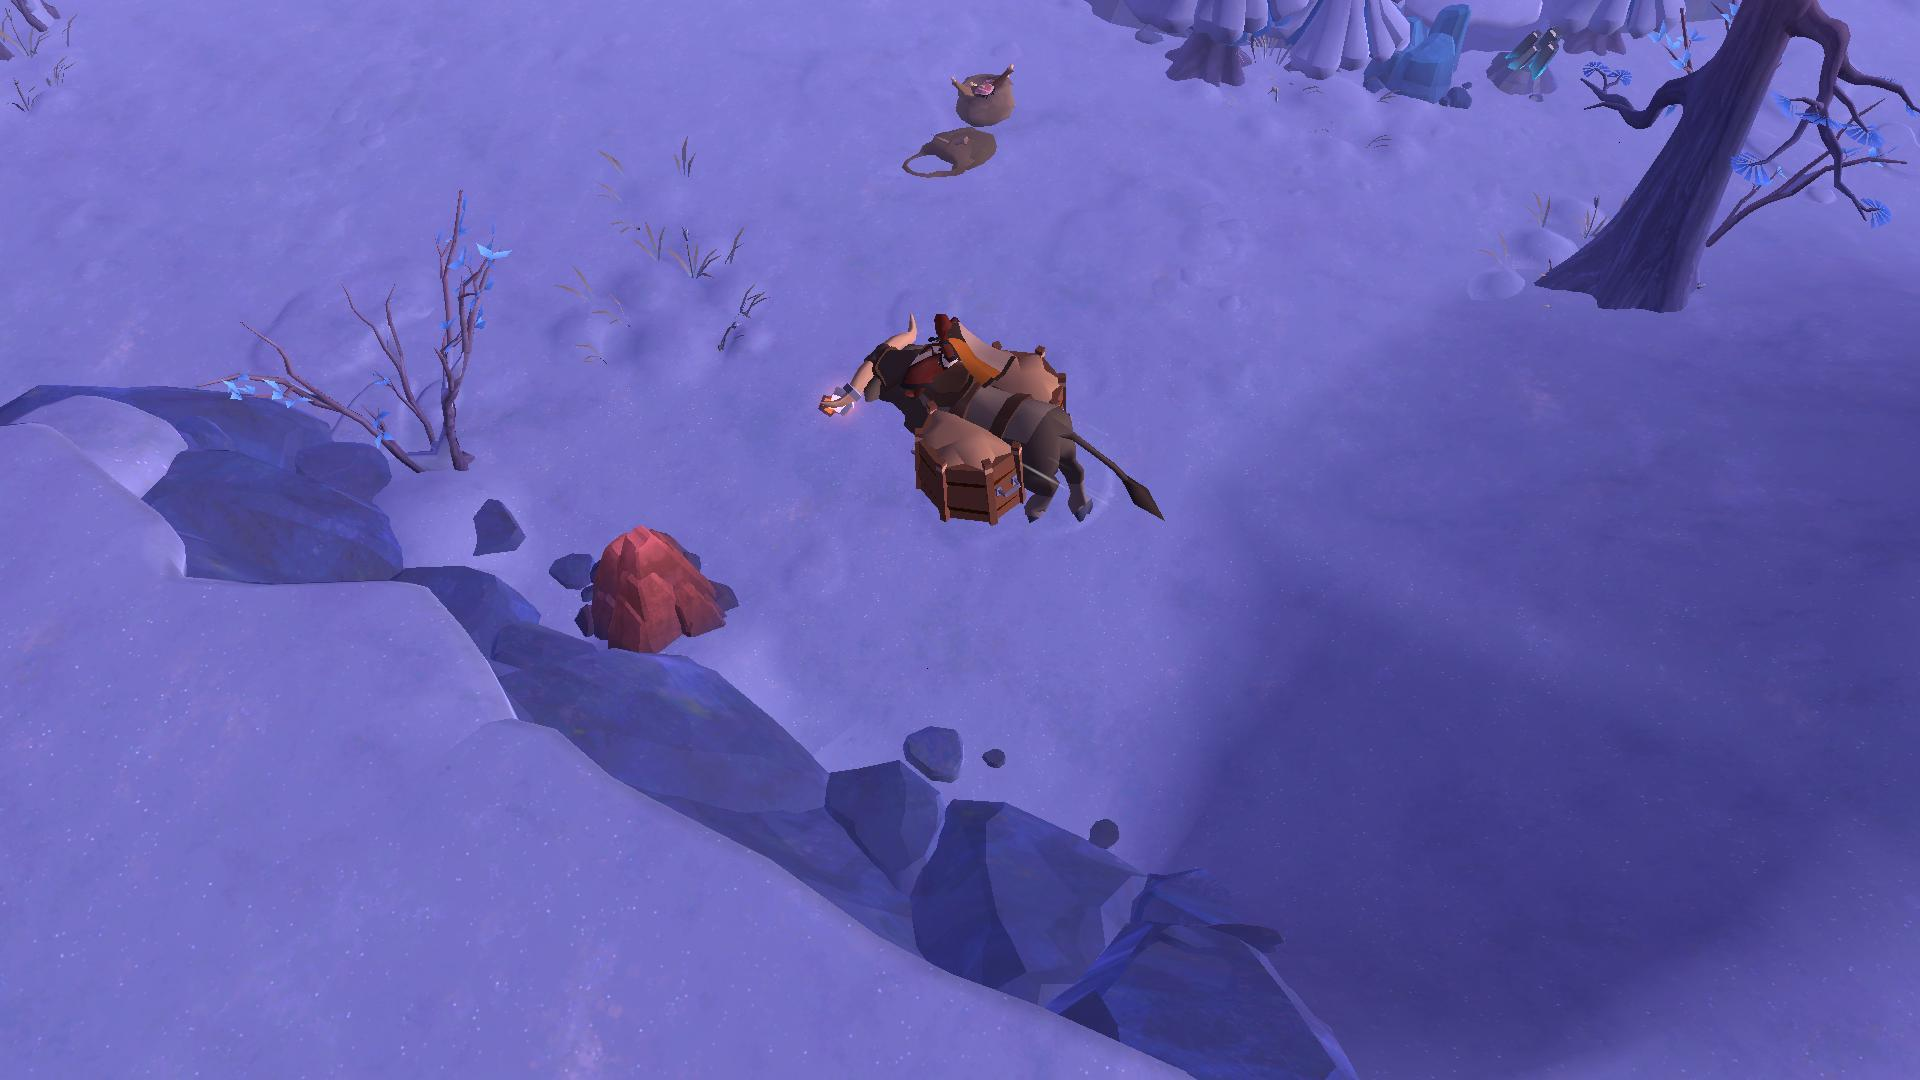ore_t4: (1495, 28, 1565, 82)
rock_t4: (1357, 5, 1478, 112)
rock_t5: (576, 517, 733, 659)
